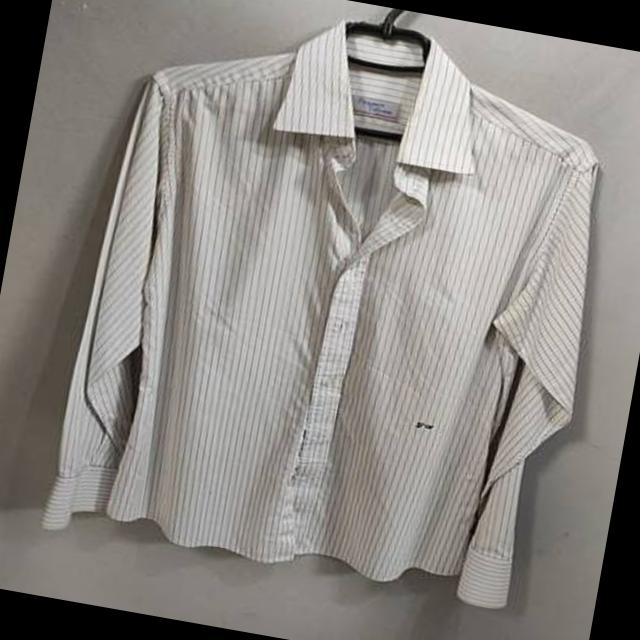SHIRT: (22, 0, 640, 630)
